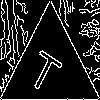T: (25, 41, 68, 97)
